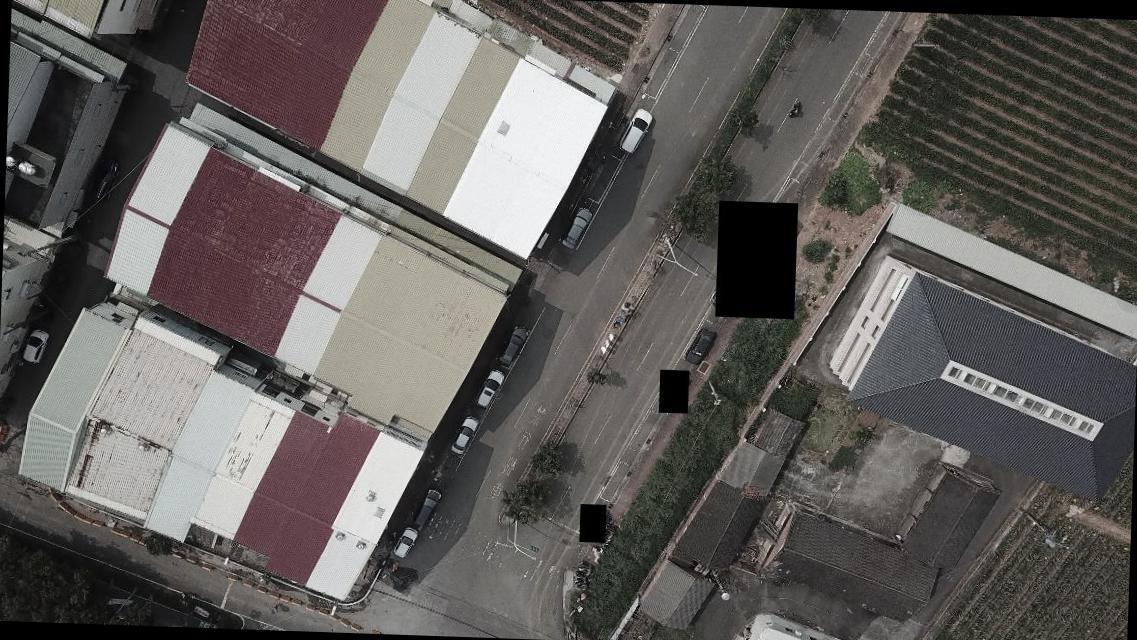vehicle: (558, 202, 592, 252), (619, 108, 650, 154), (498, 324, 528, 368), (474, 368, 504, 409), (88, 160, 118, 200), (682, 329, 714, 366), (448, 415, 476, 456), (416, 484, 441, 528), (388, 524, 418, 560), (20, 330, 47, 364)
